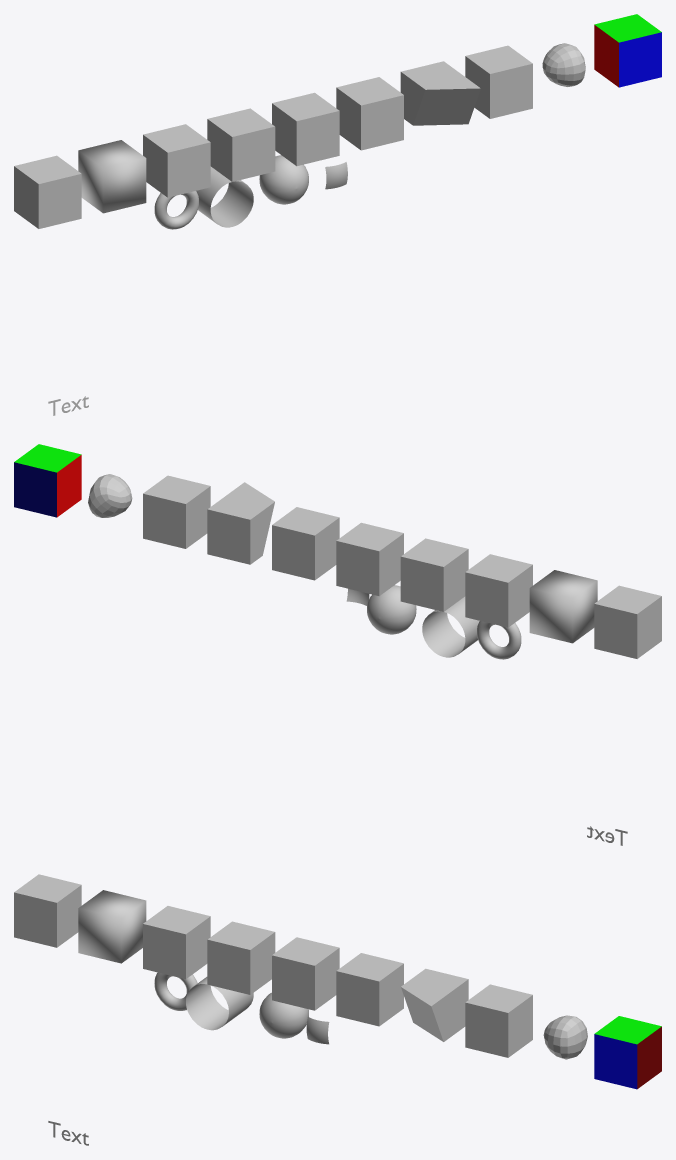
The model's file is all_objects_mat_groups.obj.
3 views of the same model, one above another, from view 1: azimuth 30°, elevation 25°; view 2: azimuth 150°, elevation 25°; view 3: azimuth 330°, elevation 25° (orthographic).
Parts seen in each view (by area): view 1: MaterialCube, BlankCube, SmoothCube, UVImageCube, ShapeKeyCube, VGroupCube, VColCube, UVCube, ParticleCube, Surface, SurfSphere, TaperCube (+1 smaller); view 2: ShapeKeyCube, MaterialCube, BlankCube, SmoothCube, UVImageCube, VGroupCube, VColCube, UVCube, ParticleCube, Surface, SurfSphere, TaperCube (+1 smaller); view 3: MaterialCube, ParticleCube, VGroupCube, SmoothCube, UVImageCube, VColCube, UVCube, BlankCube, ShapeKeyCube, Surface, TaperCube, SurfSphere (+2 smaller).
Boxes of the visible parts, <box> form: MaterialCube: <box>594,14,661,87</box>; BlankCube: <box>14,155,81,228</box>; SmoothCube: <box>78,140,146,213</box>; UVImageCube: <box>207,108,275,181</box>; ShapeKeyCube: <box>400,61,480,125</box>; VGroupCube: <box>336,77,403,150</box>; VColCube: <box>272,92,339,166</box>; UVCube: <box>143,124,210,197</box>; ParticleCube: <box>465,45,532,118</box>; Surface: <box>196,166,253,227</box>; SurfSphere: <box>259,155,308,204</box>; TaperCube: <box>542,43,585,86</box>; ShapeKeyCube: <box>207,482,274,564</box>; MaterialCube: <box>14,444,81,517</box>; BlankCube: <box>594,585,661,658</box>; SmoothCube: <box>529,570,597,643</box>; UVImageCube: <box>400,538,468,611</box>; VGroupCube: <box>272,507,339,580</box>; VColCube: <box>336,522,403,596</box>; UVCube: <box>465,554,532,627</box>; ParticleCube: <box>143,475,210,548</box>; Surface: <box>422,596,479,657</box>; SurfSphere: <box>367,585,416,634</box>; TaperCube: <box>88,474,132,517</box>; MaterialCube: <box>594,1016,661,1089</box>; ParticleCube: <box>465,984,532,1057</box>; VGroupCube: <box>336,953,403,1026</box>; SmoothCube: <box>78,890,146,963</box>; UVImageCube: <box>207,921,275,994</box>; VColCube: <box>272,937,339,1010</box>; UVCube: <box>143,906,210,979</box>; BlankCube: <box>14,874,81,947</box>; ShapeKeyCube: <box>401,968,468,1041</box>; Surface: <box>186,977,253,1030</box>; TaperCube: <box>543,1015,587,1059</box>; SurfSphere: <box>259,992,308,1038</box>.
Bounding box in the file's own units: 29 × 11.01 × 3.
